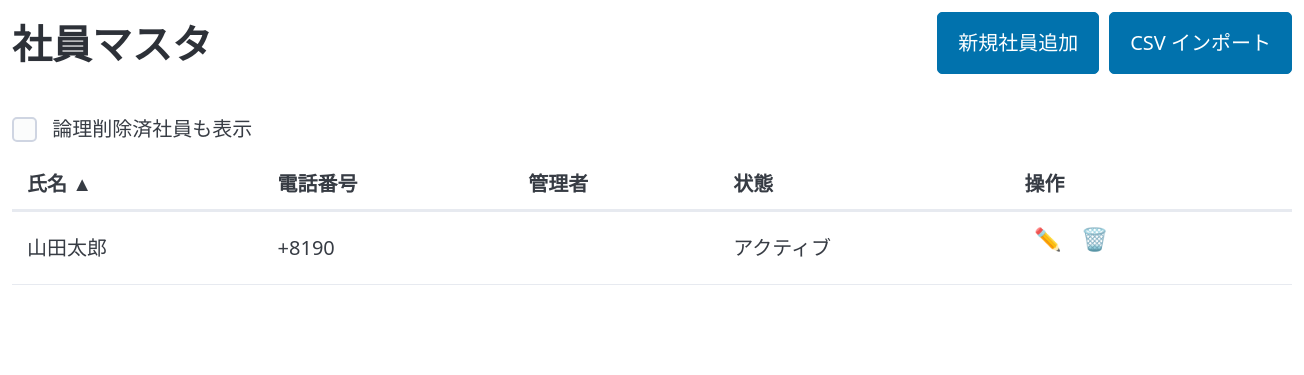
Test: EmployeeListPage — 論理削除済表示と Cognito 削除（Task 15.16） › 「論理削除済社員も表示」トグル ON で includeDeleted=true で再取得する
The width and height of the screenshot is (1304, 375).
Check: the text "山田太郎" is shown, box [12,210,263,284]
Check: the text "退職一郎" is not shown
What coordinates should you click on to do the following:
click the checkbox labelled "論理削除済社員も表示"
I would click on:
 (24, 129)
Its box is [12,117,37,142].
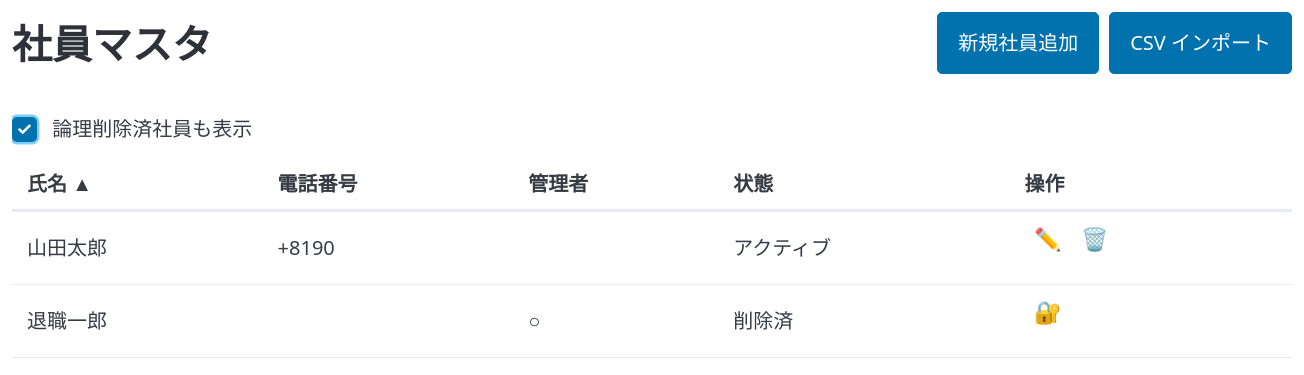
Check: the text "退職一郎" is shown, box [12,284,263,358]
